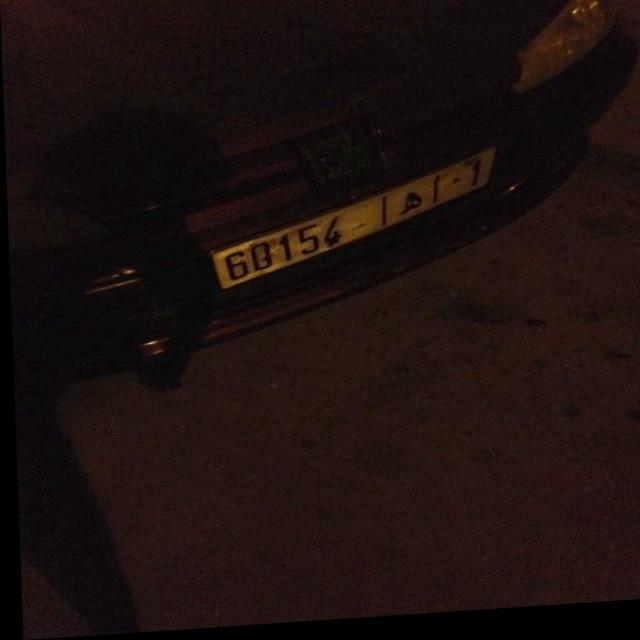License-Plate: (210, 156, 492, 291)
